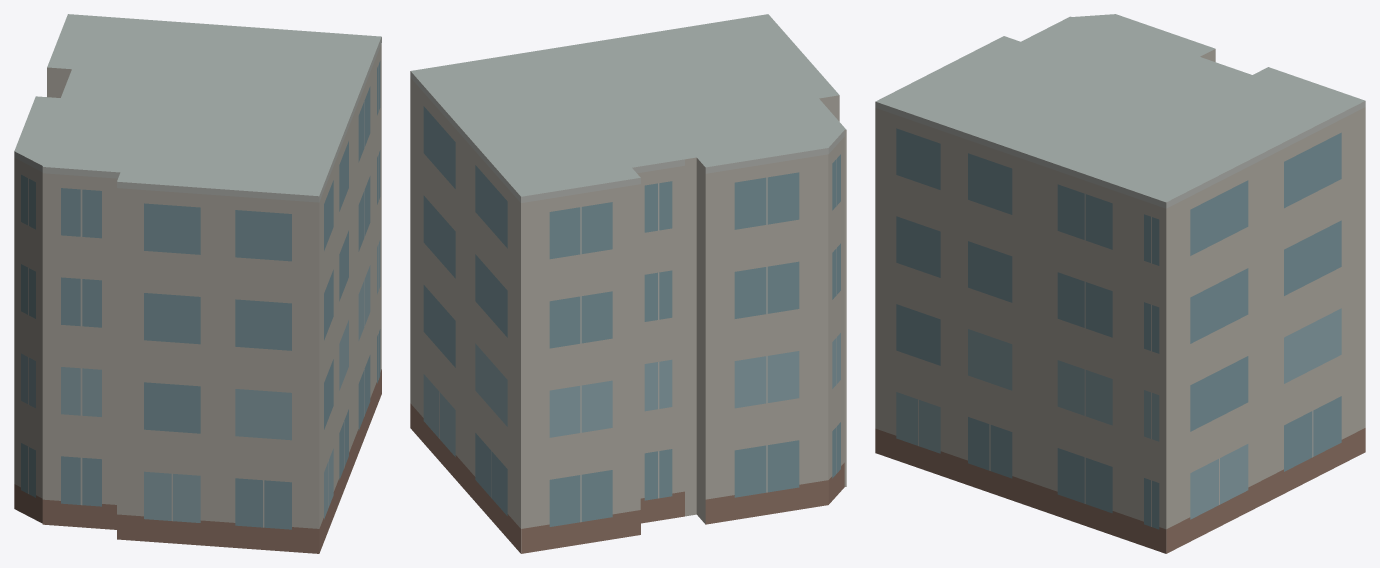
File: survey-upis-32700554.glb
The picture shows the model from 3 angles, left to right: view 1: azimuth 30°, elevation 25°; view 2: azimuth 150°, elevation 25°; view 3: azimuth 270°, elevation 25°; orthographic projection.
Parts seen in each view (by area): view 1: survey-upis-32700554.tmp; view 2: survey-upis-32700554.tmp; view 3: survey-upis-32700554.tmp.
Boxes of the visible parts, left/top/right/bottom form: survey-upis-32700554.tmp: left=14, top=14, right=381, bottom=553; survey-upis-32700554.tmp: left=410, top=14, right=846, bottom=553; survey-upis-32700554.tmp: left=875, top=14, right=1365, bottom=553.
Size of the model in its own units: 15.81 by 13.74 by 17.38.
